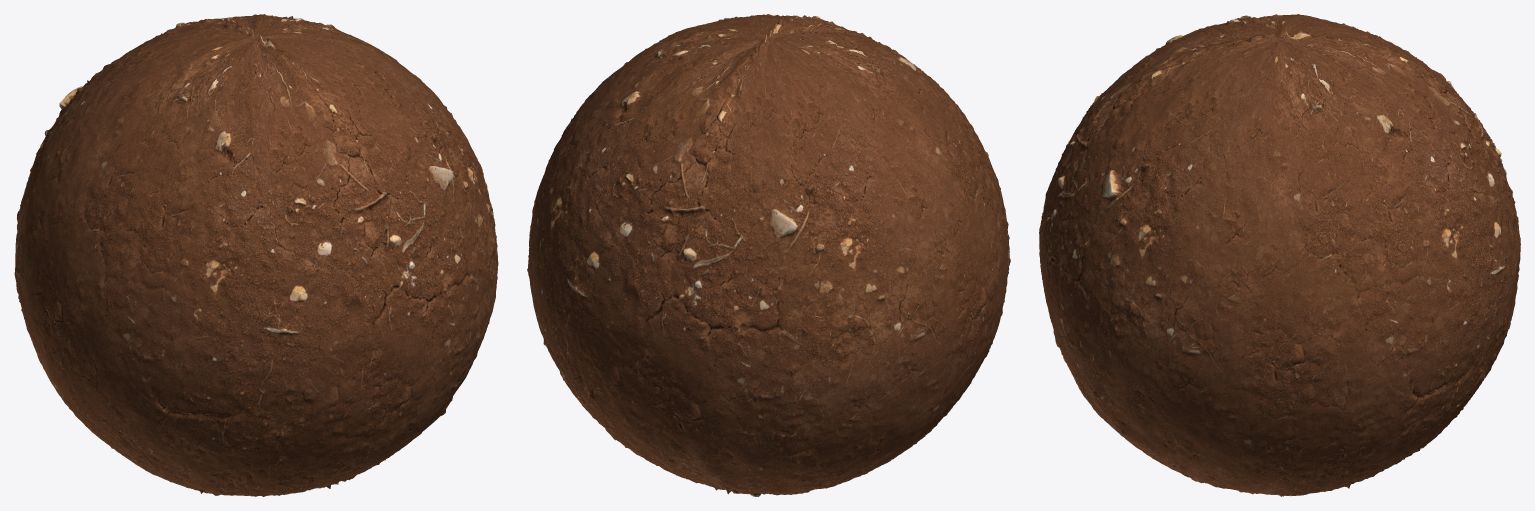
Rendered from red_mud_stones_2k.gltf.
3 renders of one model, left to right at view 1: azimuth 30°, elevation 25°; view 2: azimuth 150°, elevation 25°; view 3: azimuth 270°, elevation 25°, orthographic.
Parts seen in each view (by area): view 1: sphere_gltf; view 2: sphere_gltf; view 3: sphere_gltf.
Part boxes in pixels (x1,y1,x2,y2): sphere_gltf: (14,14,498,496); sphere_gltf: (527,14,1010,496); sphere_gltf: (1039,14,1520,496).
Bounding box in the file's own units: 1.5 × 1.52 × 1.5.
Materials: 1 (1 with a texture image).
